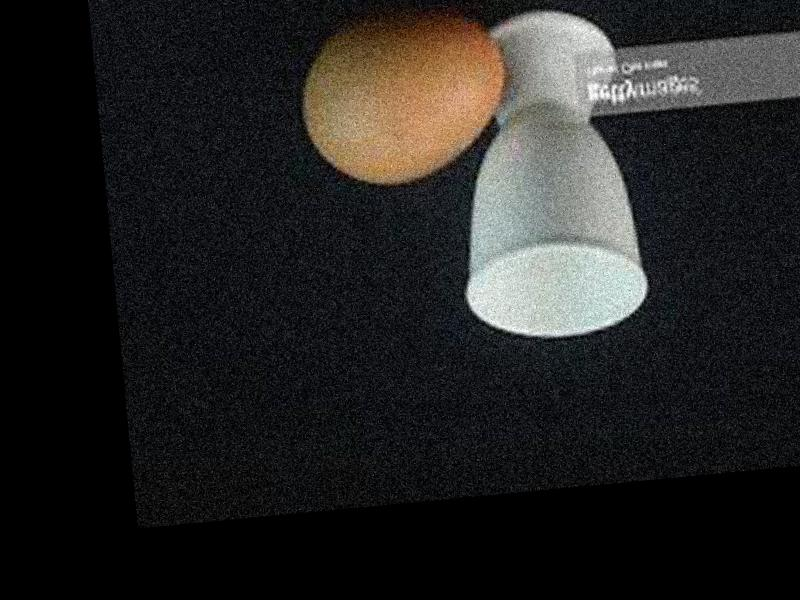Eggs: (297, 9, 515, 191)
